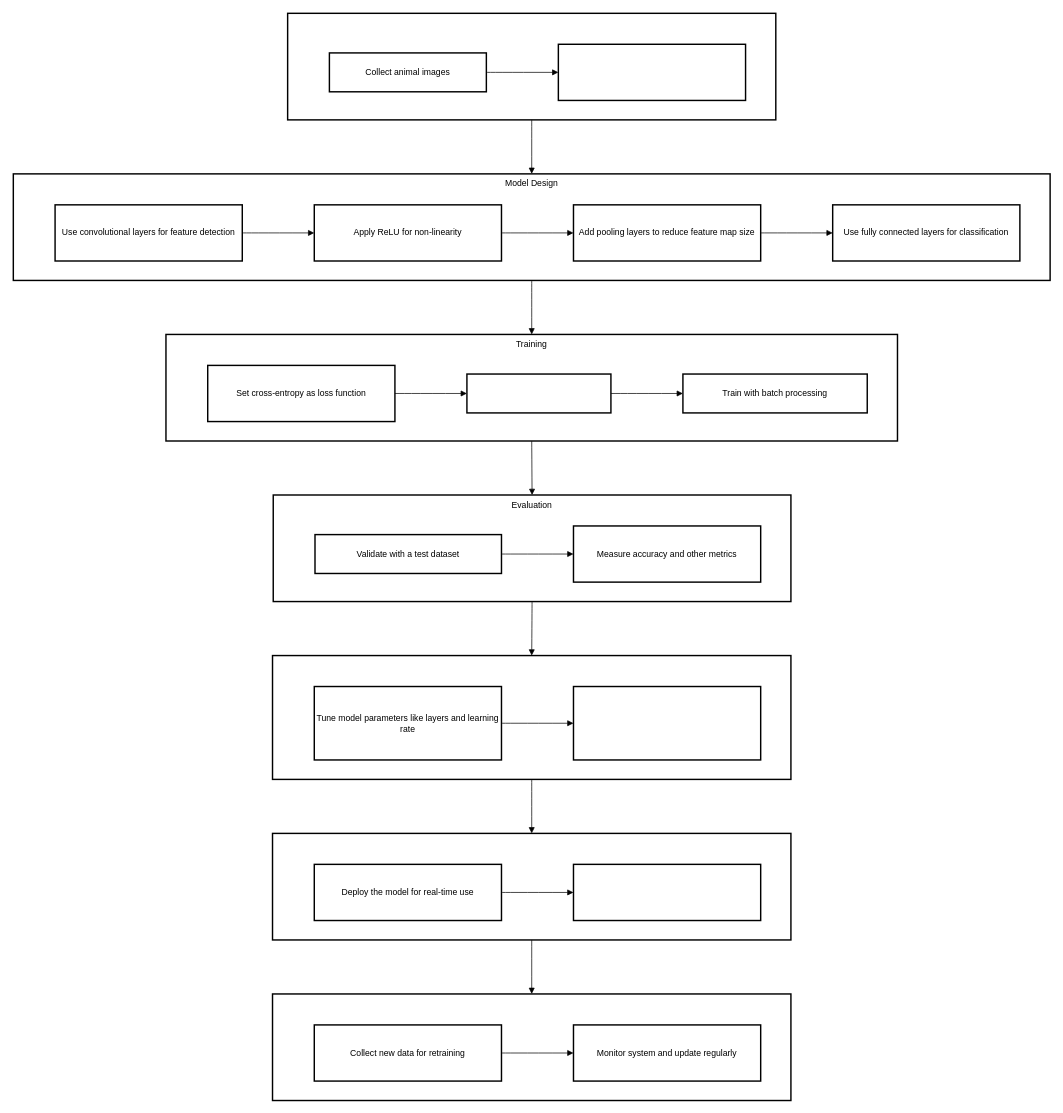
This 1063x1113 diagram has some shape labels left out. The shapes that lost their labels are listed below. From the top down, each one's box as (x1, y1, x2, y2) in pixels, then its label:
(287, 12, 776, 120): Data Preparation
(557, 43, 746, 101): Annotate images with species
(466, 373, 611, 413): Select an optimizer
(271, 654, 791, 780): Optimization
(572, 685, 761, 760): Use dropout or regularization to avoid overfitting
(271, 832, 791, 940): Deployment
(572, 863, 761, 921): Develop a user-friendly interface
(271, 993, 791, 1101): Maintenance
